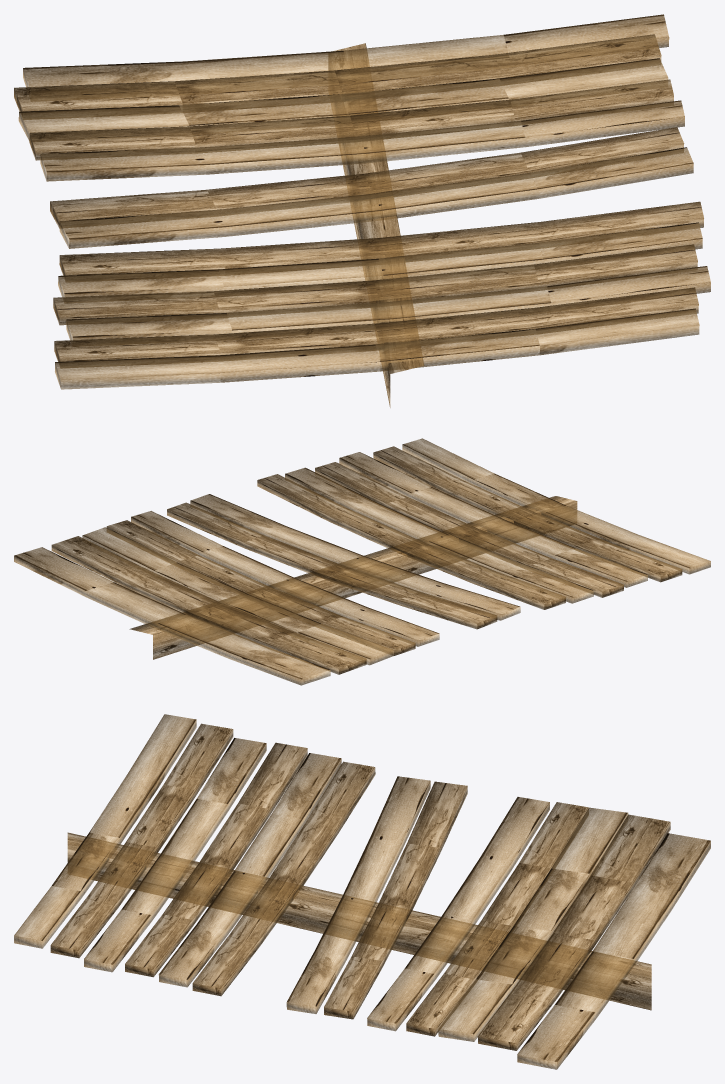
The model's file is crossbirdge.glb.
3 renders of one model, top to bottom at view 1: azimuth 30°, elevation 25°; view 2: azimuth 150°, elevation 25°; view 3: azimuth 270°, elevation 25°, orthographic. The views are drawn at different scales.
Visible parts, largest first — view 1: sign_backside.png__; view 2: sign_backside.png__; view 3: sign_backside.png__.
Boxes of the visible parts, x1=… form: sign_backside.png__: x1=14, y1=14, x2=710, y2=407; sign_backside.png__: x1=14, y1=438, x2=710, y2=685; sign_backside.png__: x1=14, y1=714, x2=710, y2=1069.
Bounding box in the file's own units: 20.79 × 1.69 × 18.42.
1 material, 1 textured.
